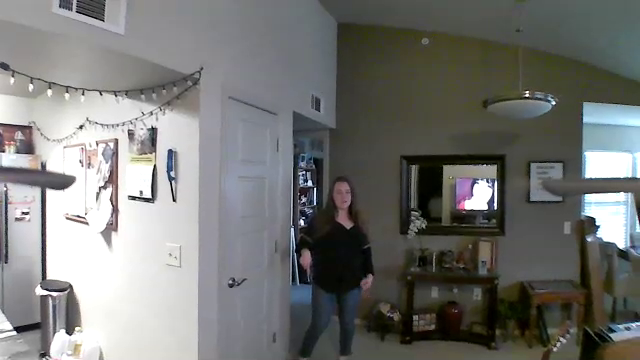down: (294, 244, 316, 284)
